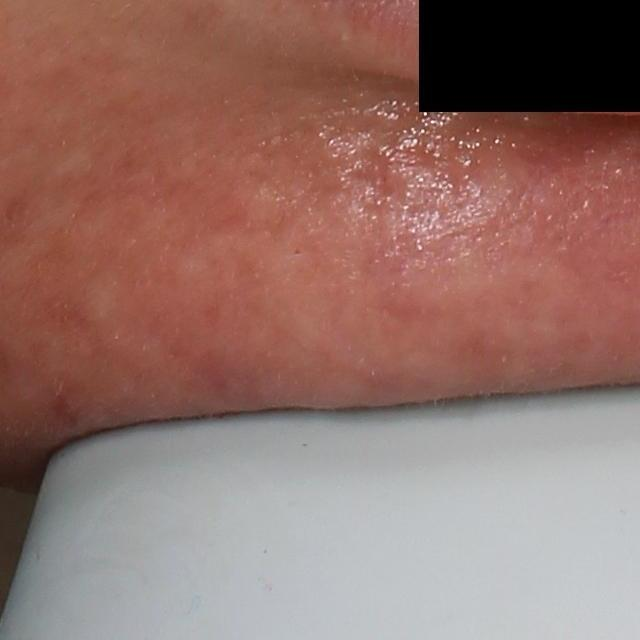atrophic_scar: (340, 141, 406, 221)
